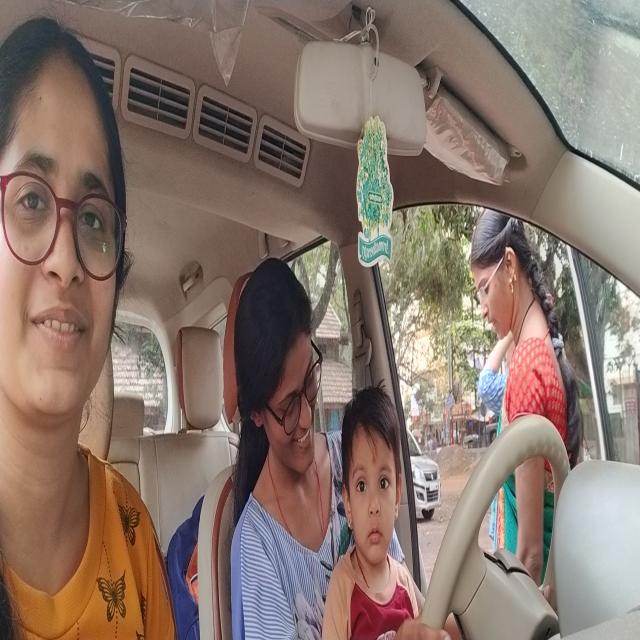child: (336, 384, 407, 568)
person: (0, 19, 134, 495), (233, 256, 330, 499)
